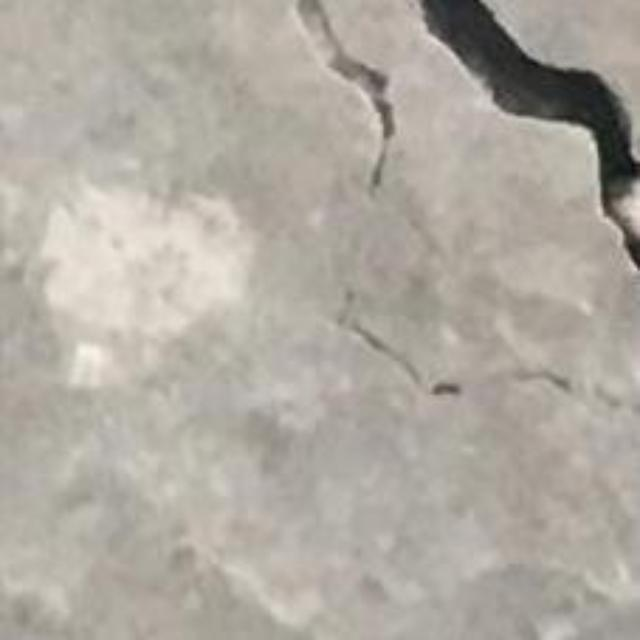crack: (415, 0, 639, 270)
